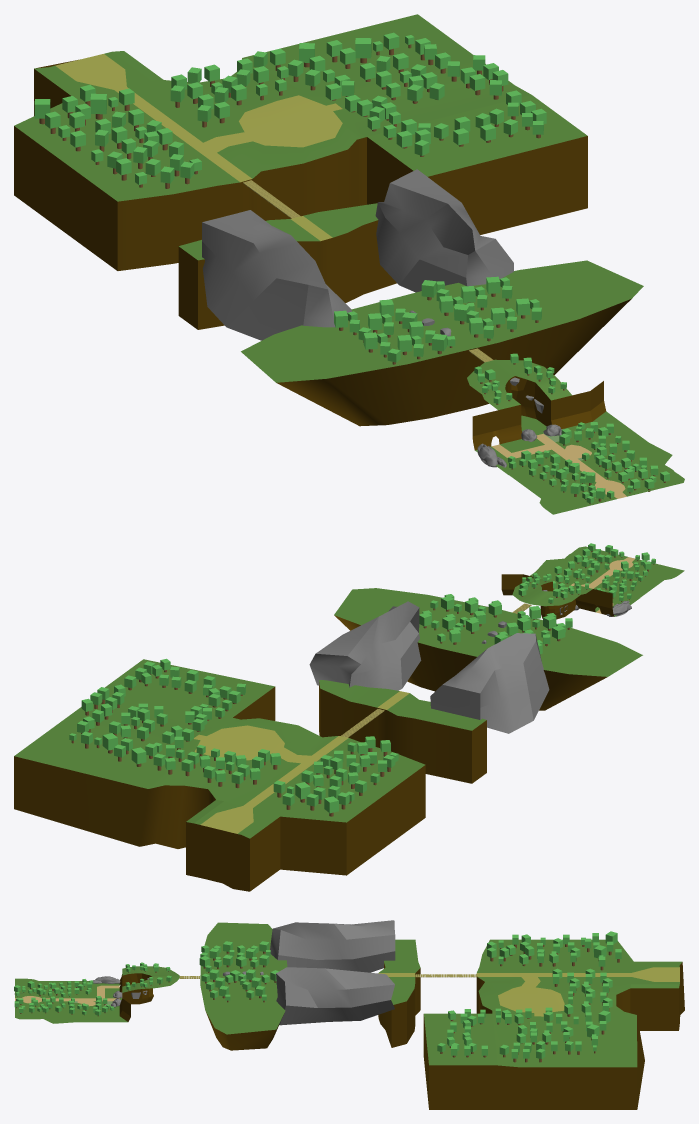
File: [ppoac.fbx
The picture shows the model from 3 angles, top to bottom: view 1: azimuth 30°, elevation 25°; view 2: azimuth 150°, elevation 25°; view 3: azimuth 270°, elevation 25°; orthographic projection. The views are drawn at different scales.
Parts seen in each view (by area): view 1: polySurface536, pCylinder120, polySurface834; view 2: polySurface536, pCylinder120, polySurface834; view 3: polySurface536, pCylinder120, polySurface834, polySurface833.
Boxes of the visible parts, x1=… form: polySurface536: x1=14, y1=14, x2=684, y2=514; pCylinder120: x1=34, y1=32, x2=669, y2=504; polySurface834: x1=202, y1=169, x2=564, y2=467; polySurface536: x1=14, y1=546, x2=684, y2=891; pCylinder120: x1=69, y1=543, x2=655, y2=816; polySurface834: x1=309, y1=590, x2=631, y2=733; polySurface536: x1=14, y1=922, x2=684, y2=1109; pCylinder120: x1=14, y1=931, x2=621, y2=1062; polySurface834: x1=93, y1=920, x2=395, y2=1025; polySurface833: x1=179, y1=974, x2=476, y2=978.
Size of the model in its own units: 14.35 by 3.54 by 28.14.
